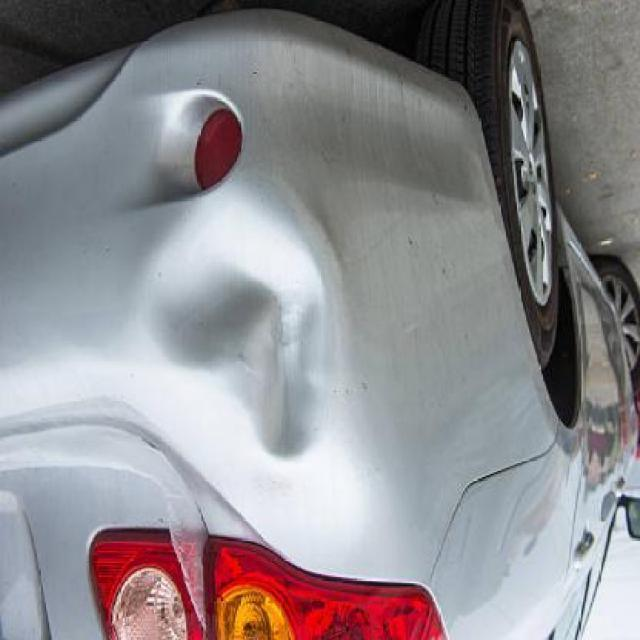dent: (137, 197, 348, 460)
